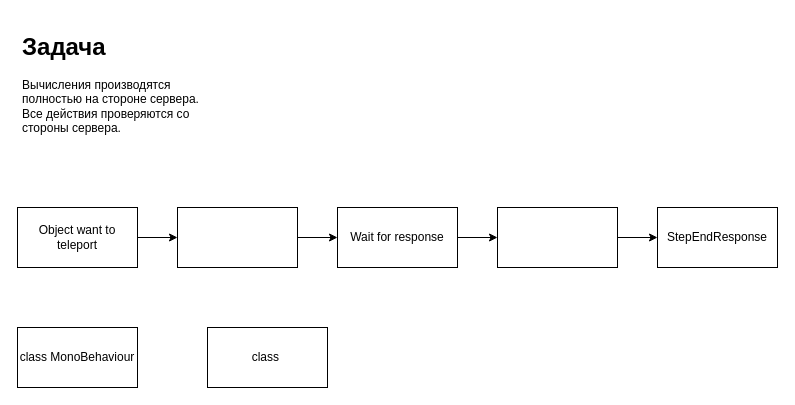
Some shapes in this 795 by 405 pixel diagram are drawn without their labels. The shapes that lost their labels are listed below. From the top down, each one's centre as x and y in pixels, then its label:
At point (237, 237): "Create request for teleport".
At point (557, 237): "Move".
